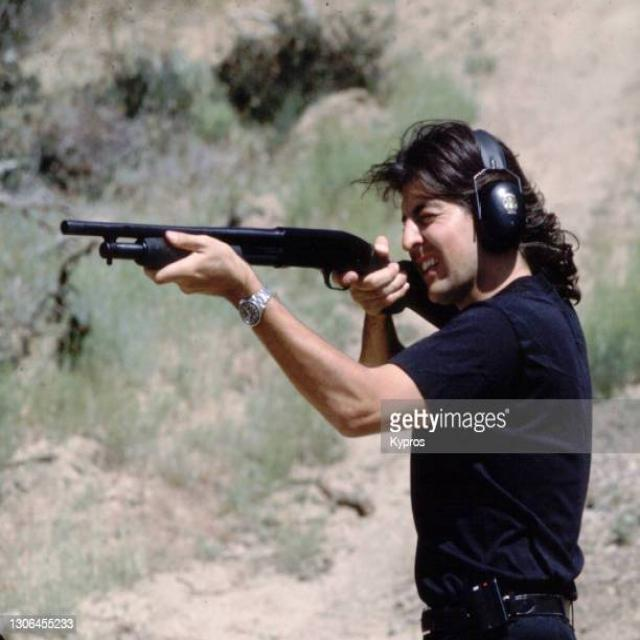ShotGun: (61, 220, 458, 329)
